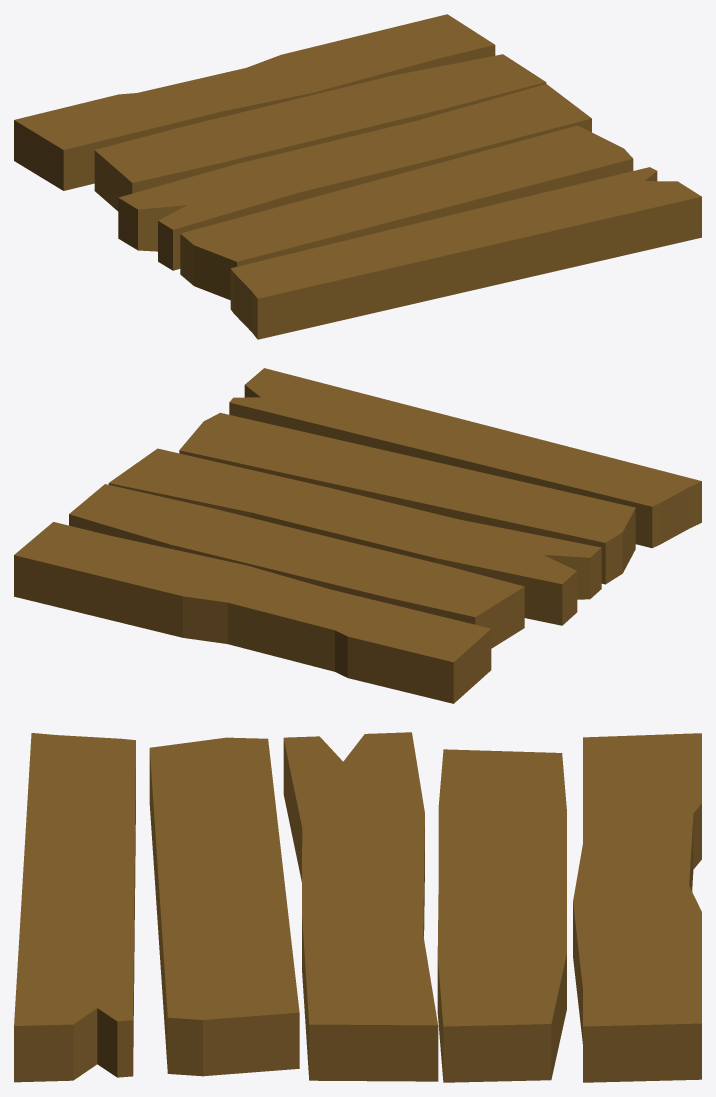
File: BridgeMiddle.fbx
3 views of the same model, one above another, from view 1: azimuth 30°, elevation 25°; view 2: azimuth 150°, elevation 25°; view 3: azimuth 270°, elevation 25° (orthographic). The views are drawn at different scales.
Visible parts, largest first — view 1: Cube.018; view 2: Cube.018; view 3: Cube.018.
Part boxes in pixels (x1,y1,x2,y2): Cube.018: (14,14,701,339); Cube.018: (14,368,701,703); Cube.018: (14,732,701,1082).
Bounding box in the file's own units: 100 × 8.94 × 99.11.
